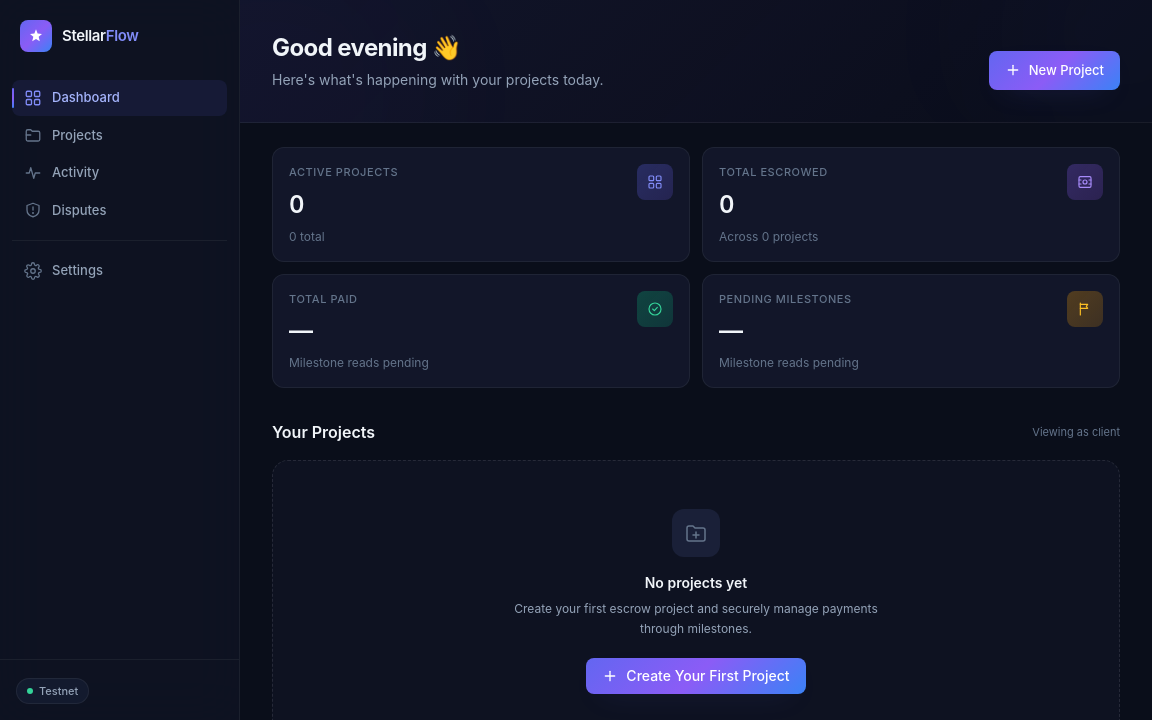
Test: App shell › navigates to Activity, Settings, and Disputes via the sidebar
Click the button "Activity" at (120, 173), box [12,155,227,190]
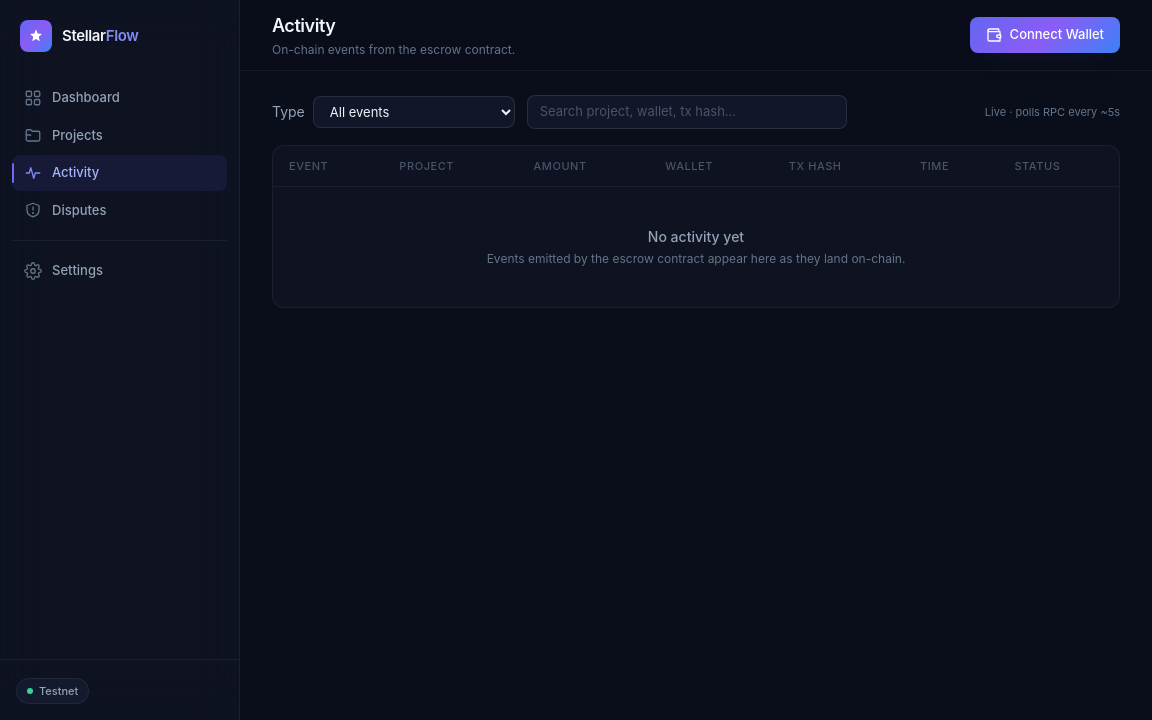
Check: the heading "Activity" is shown, box [272,15,335,36]
Click the button "Settings" at (120, 271), box [12,253,227,288]
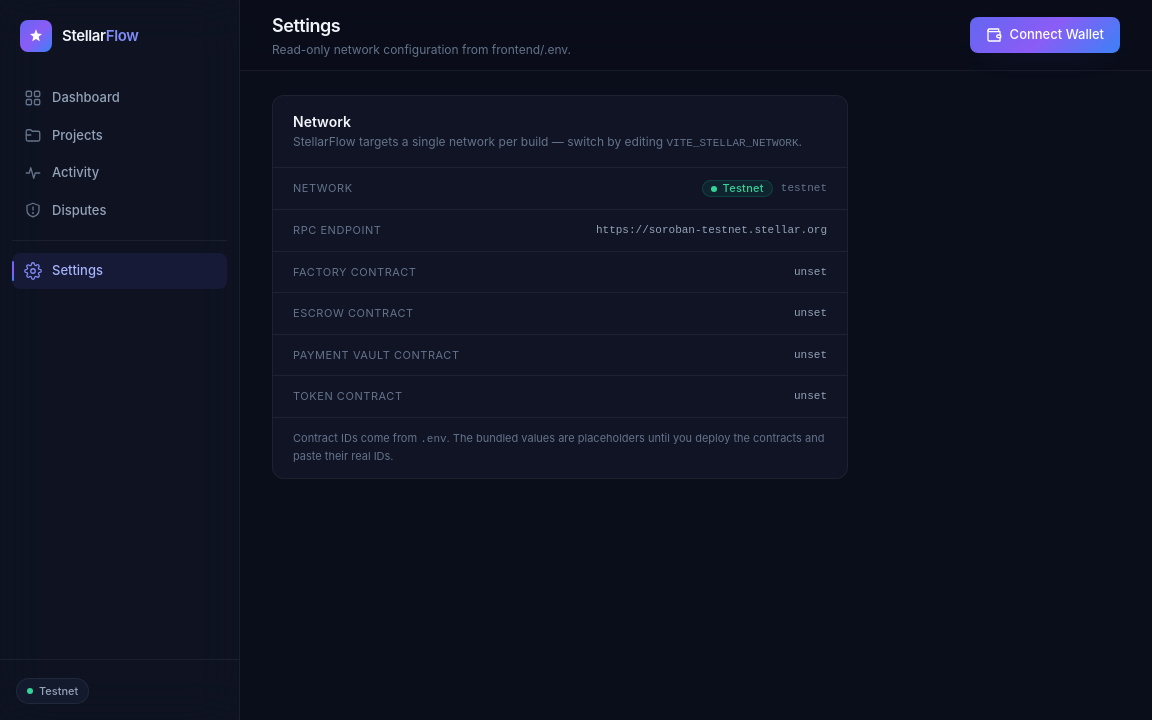
Check: the heading "Settings" is shown, box [272,15,340,36]
Check: the text "RPC endpoint" is shown, box [293,222,382,238]
Click the button "Disputes" at (120, 210), box [12,192,227,228]
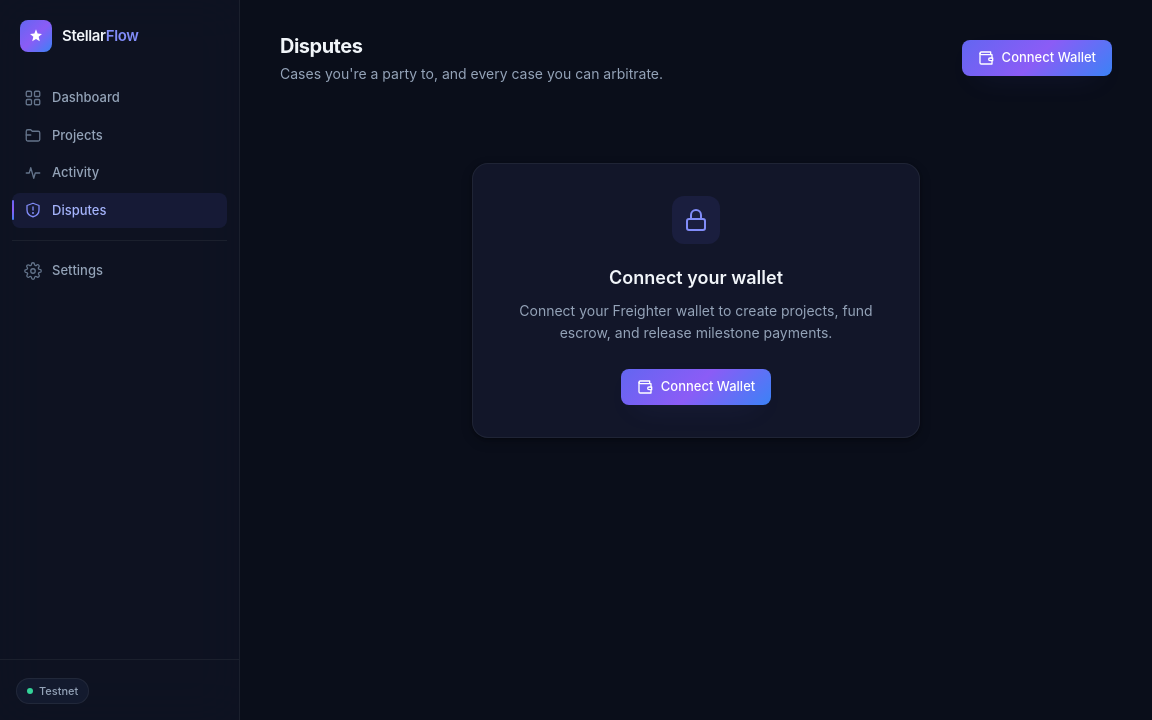
Check: the heading "Disputes" is shown, box [280,34,362,58]
